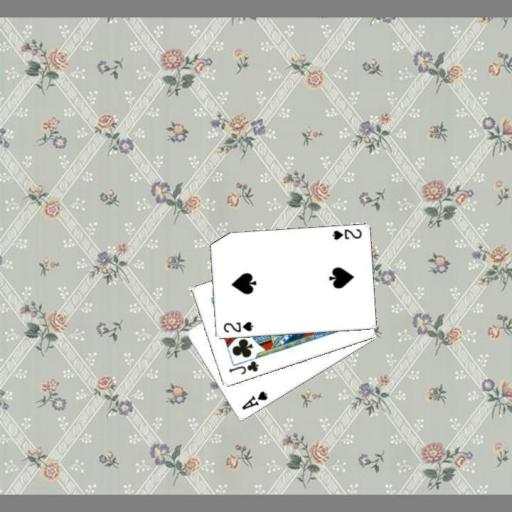card-corner: (238, 388, 269, 412), (226, 358, 260, 376), (328, 226, 364, 241), (220, 319, 254, 334)
